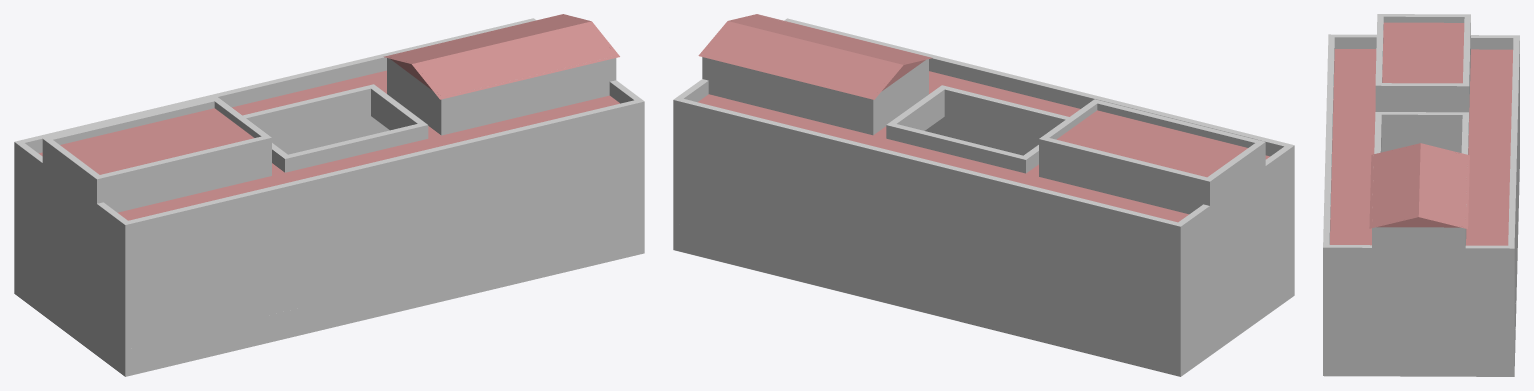
File: LOD_Block_2_31.glb
3 views of the same model, side by side, from view 1: azimuth 30°, elevation 25°; view 2: azimuth 150°, elevation 25°; view 3: azimuth 270°, elevation 25° (orthographic). The views are drawn at different scales.
Visible parts, largest first — view 1: mesh_CityEngineMaterial_460; view 2: mesh_CityEngineMaterial_460; view 3: mesh_CityEngineMaterial_460.
Part boxes in pixels (box(x1,y1,x2,y2)): mesh_CityEngineMaterial_460: box(14, 14, 644, 376); mesh_CityEngineMaterial_460: box(673, 14, 1294, 376); mesh_CityEngineMaterial_460: box(1323, 14, 1519, 376).
Bounding box in the file's own units: 39.66 × 13.82 × 15.36.
